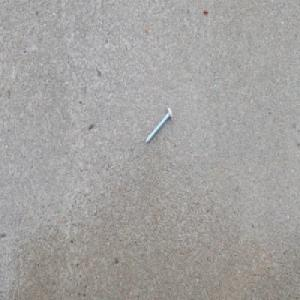Nail: (144, 106, 173, 144)
